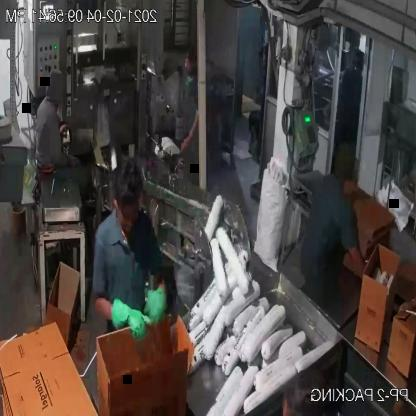glove: (92, 289, 145, 345), (139, 276, 168, 330)
no_glove: (347, 236, 382, 290), (180, 105, 205, 152)
